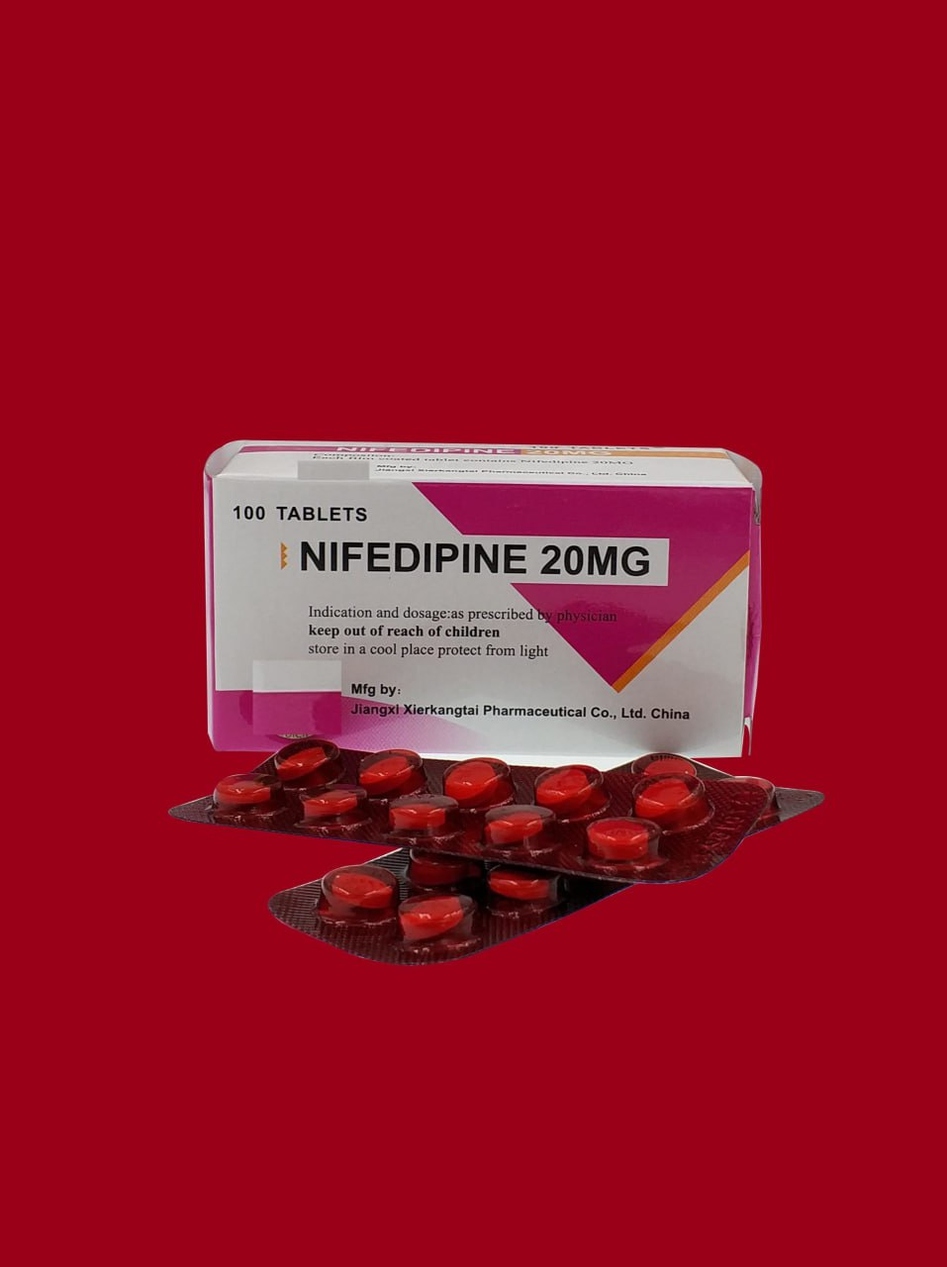Medicine: (198, 439, 765, 772)
